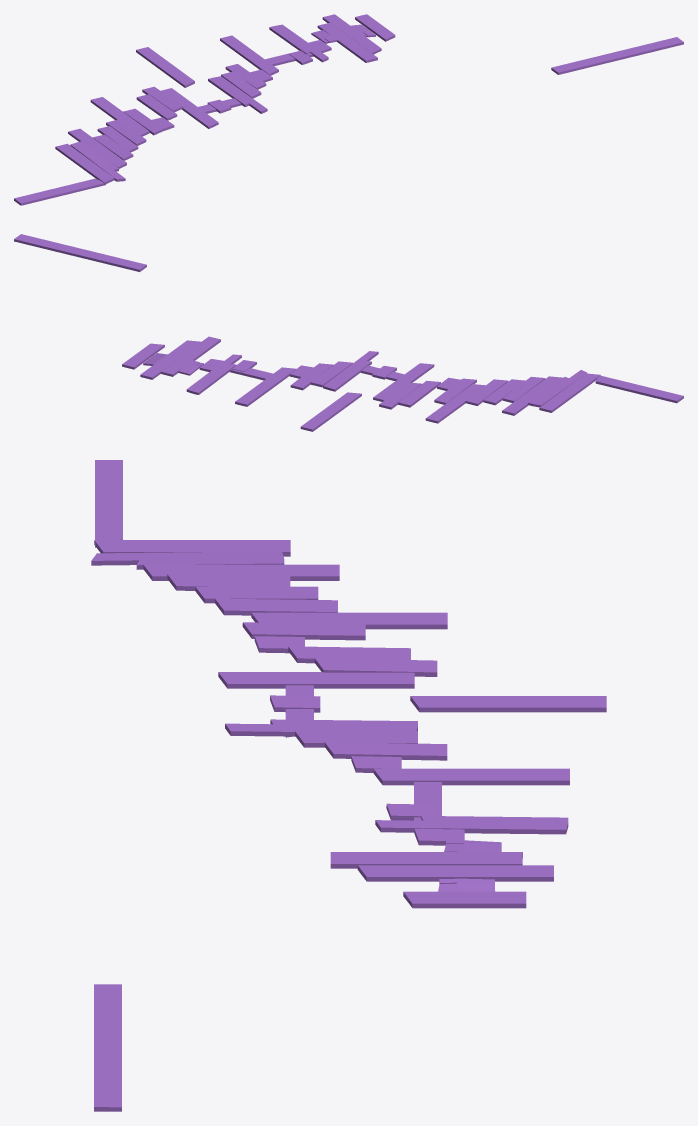
The model's file is Floor_Hole_02_Board_Lod0.fbx.
3 renders of one model, top to bottom at view 1: azimuth 30°, elevation 25°; view 2: azimuth 150°, elevation 25°; view 3: azimuth 270°, elevation 25°, orthographic. The views are drawn at different scales.
Visible parts, largest first — view 1: Floor_Hole_02_Board_Lod0; view 2: Floor_Hole_02_Board_Lod0; view 3: Floor_Hole_02_Board_Lod0.
Boxes of the visible parts, bbox=[...] form: Floor_Hole_02_Board_Lod0: bbox=[14, 14, 683, 205]; Floor_Hole_02_Board_Lod0: bbox=[14, 234, 683, 431]; Floor_Hole_02_Board_Lod0: bbox=[91, 460, 606, 1111].
Size of the model in its own units: 896 by 7.28 by 302.
